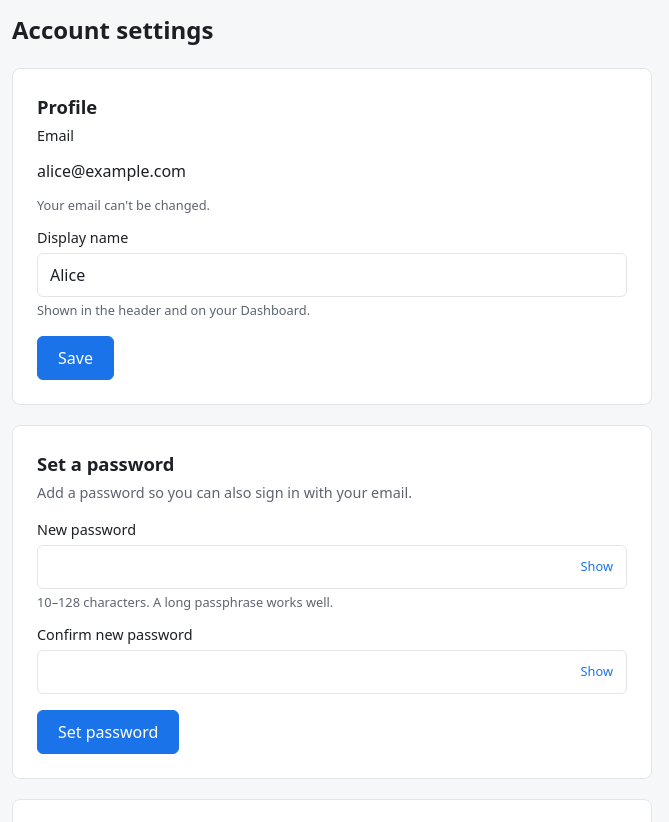
SettingsPage › saves a trimmed display name and refreshes the header
Check: the heading "Account settings" is shown, box [12,13,213,46]
Replace the text in the field labelled "Display name" with "  Alicia  ": (332, 275) [37,253,627,297]
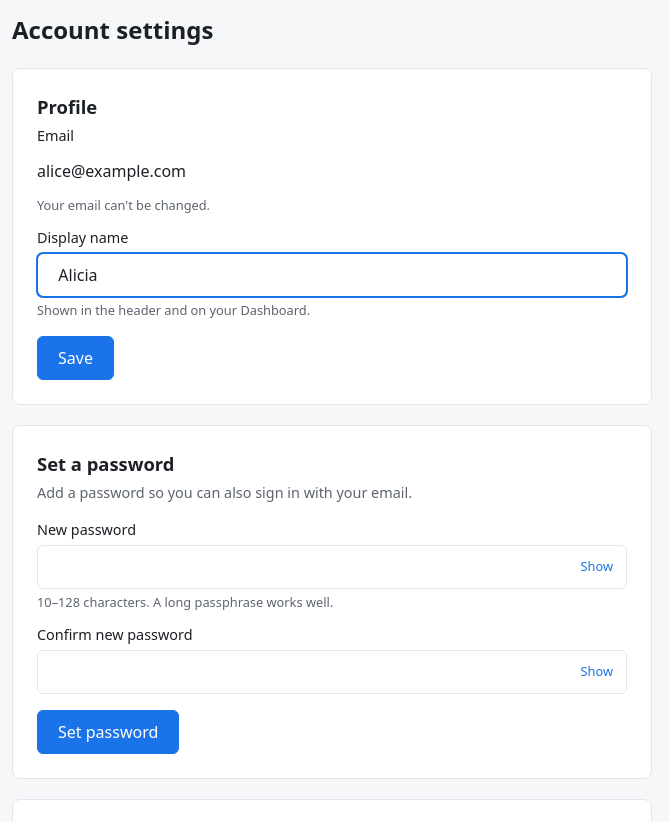
Click the button "Save": (75, 358) [37,336,114,380]
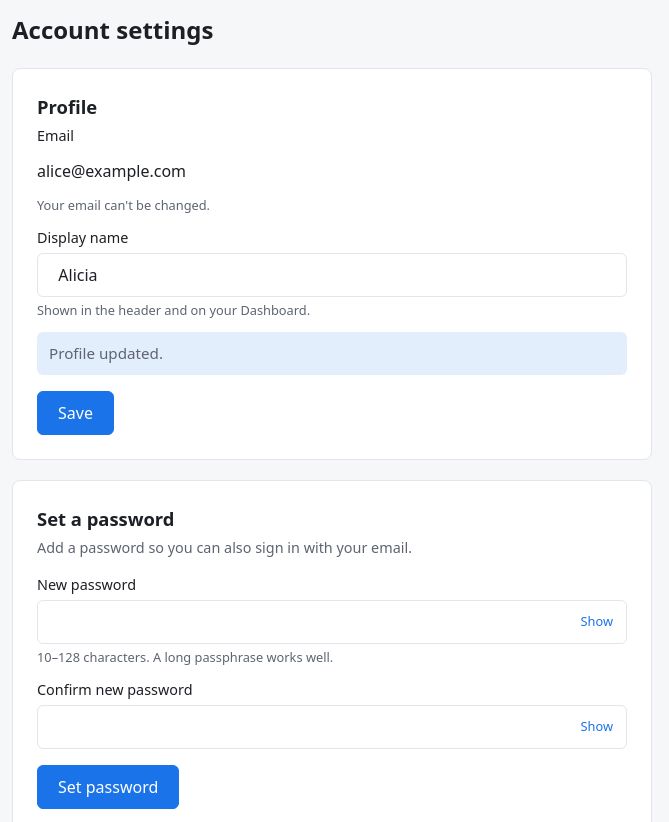
Check: the message reads "Profile updated.", box [49,343,163,363]
